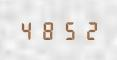eight: (38, 20, 57, 40)
five: (58, 20, 77, 40)
four: (18, 20, 37, 40)
two: (78, 20, 97, 40)
